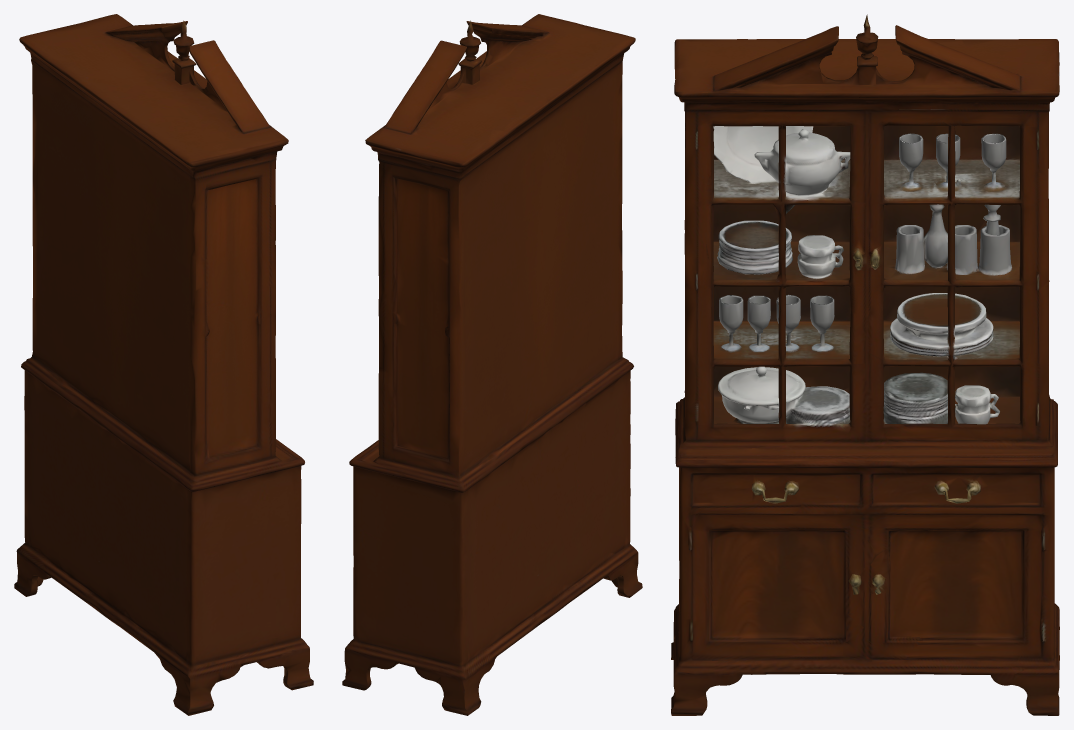
Rendered from china-cabinet.glb.
The picture shows the model from 3 angles, left to right: view 1: azimuth 30°, elevation 25°; view 2: azimuth 150°, elevation 25°; view 3: azimuth 270°, elevation 25°; orthographic projection. The views are drawn at different scales.
Parts seen in each view (by area): view 1: tripo_node_7541e9f8-2a4a-4c55-8fbe-5ae130bdf77e; view 2: tripo_node_7541e9f8-2a4a-4c55-8fbe-5ae130bdf77e; view 3: tripo_node_7541e9f8-2a4a-4c55-8fbe-5ae130bdf77e.
Part boxes in pixels (<box>): tripo_node_7541e9f8-2a4a-4c55-8fbe-5ae130bdf77e: <box>14,14,313,715</box>; tripo_node_7541e9f8-2a4a-4c55-8fbe-5ae130bdf77e: <box>342,14,642,715</box>; tripo_node_7541e9f8-2a4a-4c55-8fbe-5ae130bdf77e: <box>671,14,1059,715</box>.
Bounding box in the file's own units: 0.3881 × 1.8 × 0.9334.
Materials: 1 (1 with a texture image).
